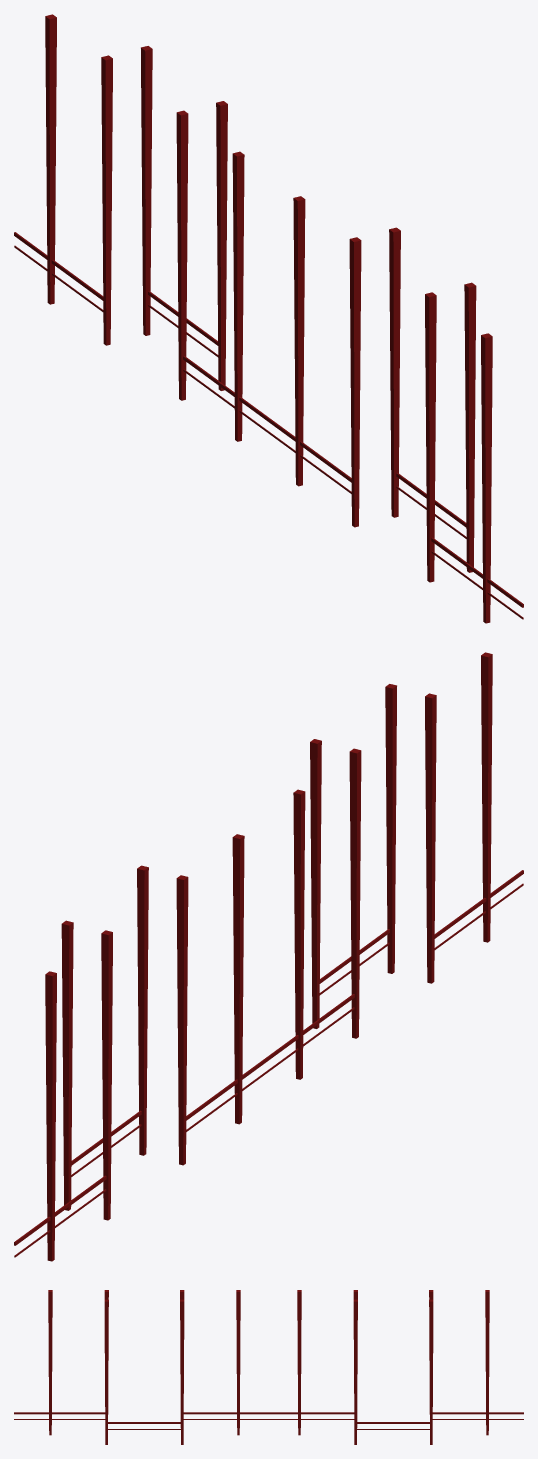
File: SM_Pole_Top_E.fbx
3 views of the same model, one above another, from view 1: azimuth 30°, elevation 25°; view 2: azimuth 150°, elevation 25°; view 3: azimuth 270°, elevation 25° (orthographic). The views are drawn at different scales.
Visible parts, largest first — view 1: SM_Pole_Top_E; view 2: SM_Pole_Top_E; view 3: SM_Pole_Top_E.
Boxes of the visible parts, x1,y1,x2,y2 form: SM_Pole_Top_E: [14, 14, 523, 623]; SM_Pole_Top_E: [14, 652, 523, 1261]; SM_Pole_Top_E: [14, 1290, 523, 1444].
Bounding box in the file's own units: 5.96 × 34.65 × 112.
